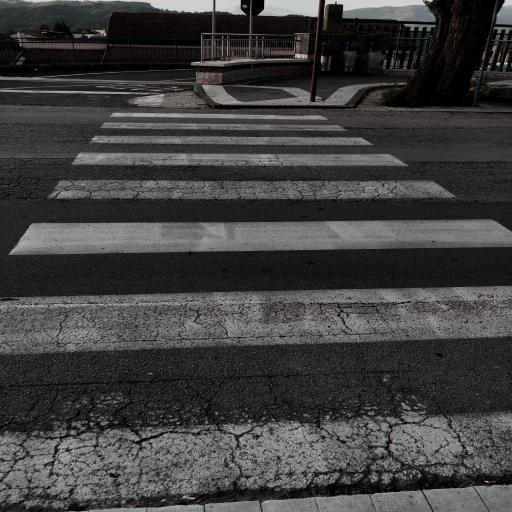crosswalk: (28, 146, 464, 210), (98, 107, 354, 137)
